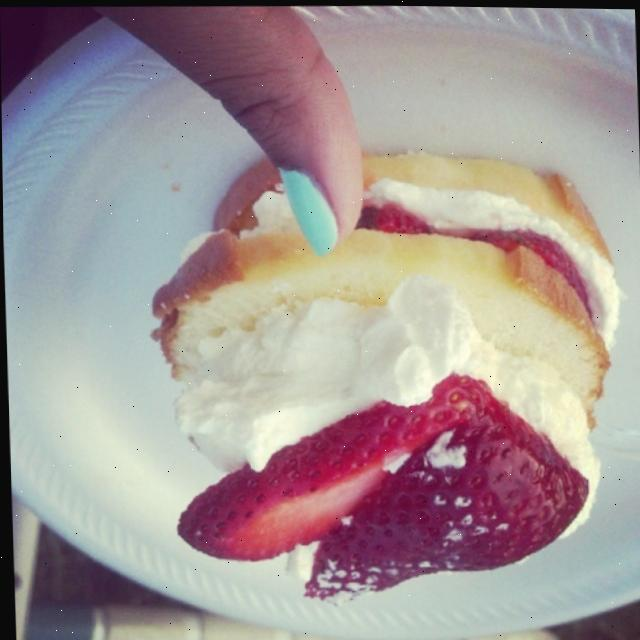蛋糕甜品: (132, 138, 628, 619)
